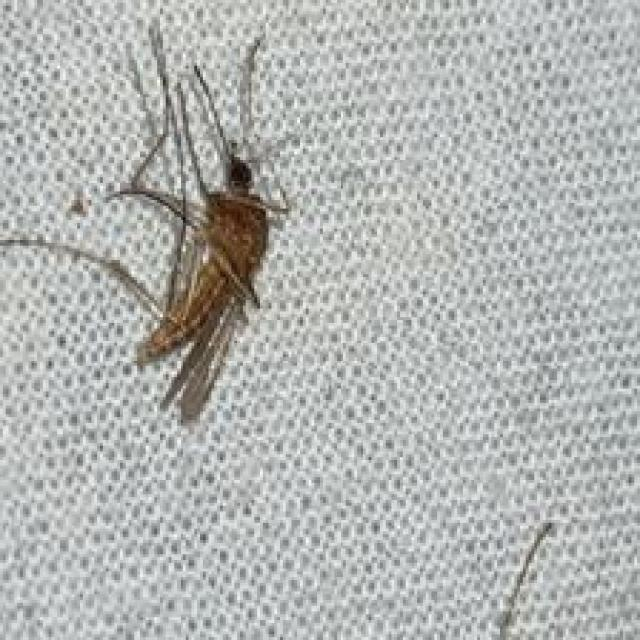Culex: (0, 18, 294, 427)
